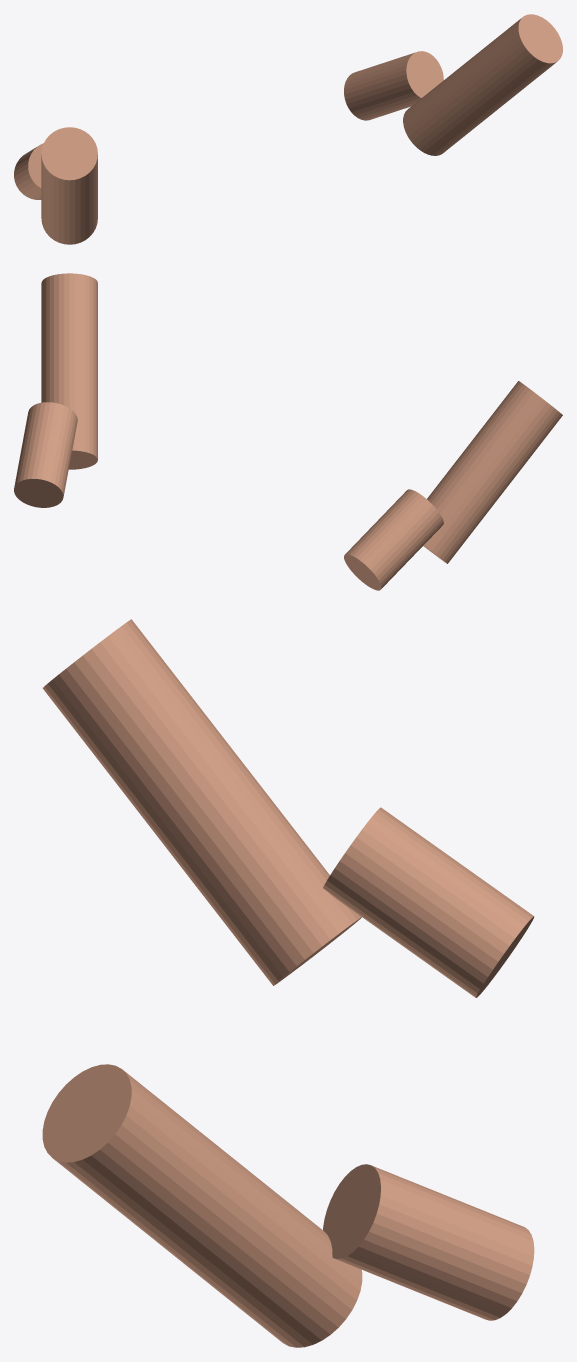
The model's file is zcity_hands_mesh.obj.
3 renders of one model, top to bottom at view 1: azimuth 30°, elevation 25°; view 2: azimuth 150°, elevation 25°; view 3: azimuth 270°, elevation 25°, orthographic. The views are drawn at different scales.
Parts seen in each view (by area): view 1: ZCity_3D_Hands_Mesh; view 2: ZCity_3D_Hands_Mesh; view 3: ZCity_3D_Hands_Mesh.
Part boxes in pixels (left/top/right/bottom): ZCity_3D_Hands_Mesh: left=14, top=14, right=562, bottom=244; ZCity_3D_Hands_Mesh: left=14, top=273, right=562, bottom=590; ZCity_3D_Hands_Mesh: left=42, top=619, right=534, bottom=1347.
Bounding box in the file's own units: 0.9503 × 0.2758 × 0.3915.
